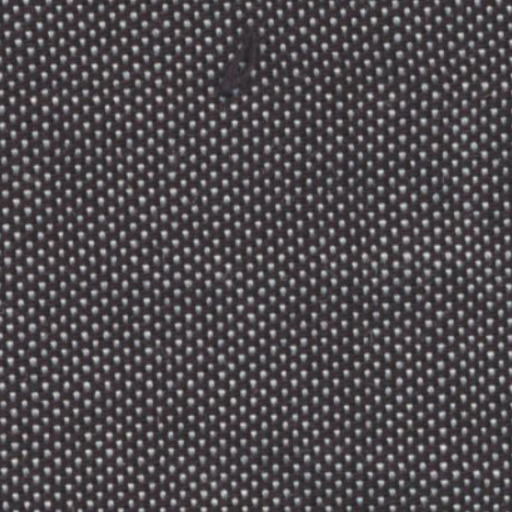DuanSha: (197, 14, 298, 110)
